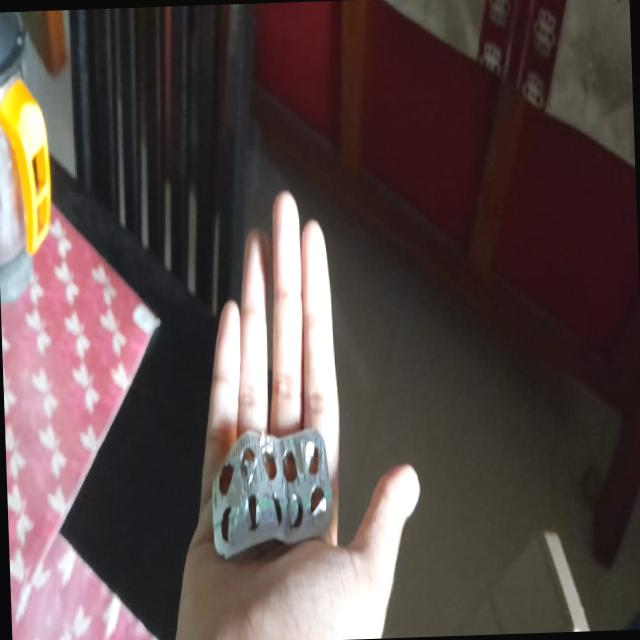Blister_Packs - Non Recyclable: (206, 421, 336, 563)
